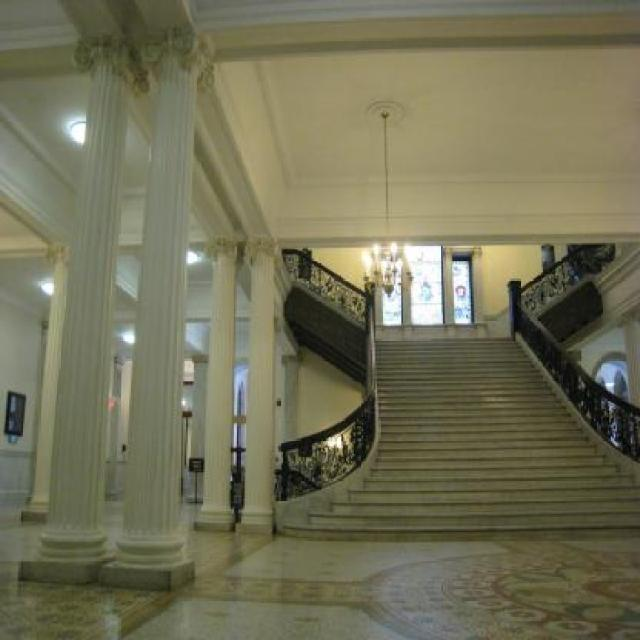stair: (281, 335, 640, 539)
